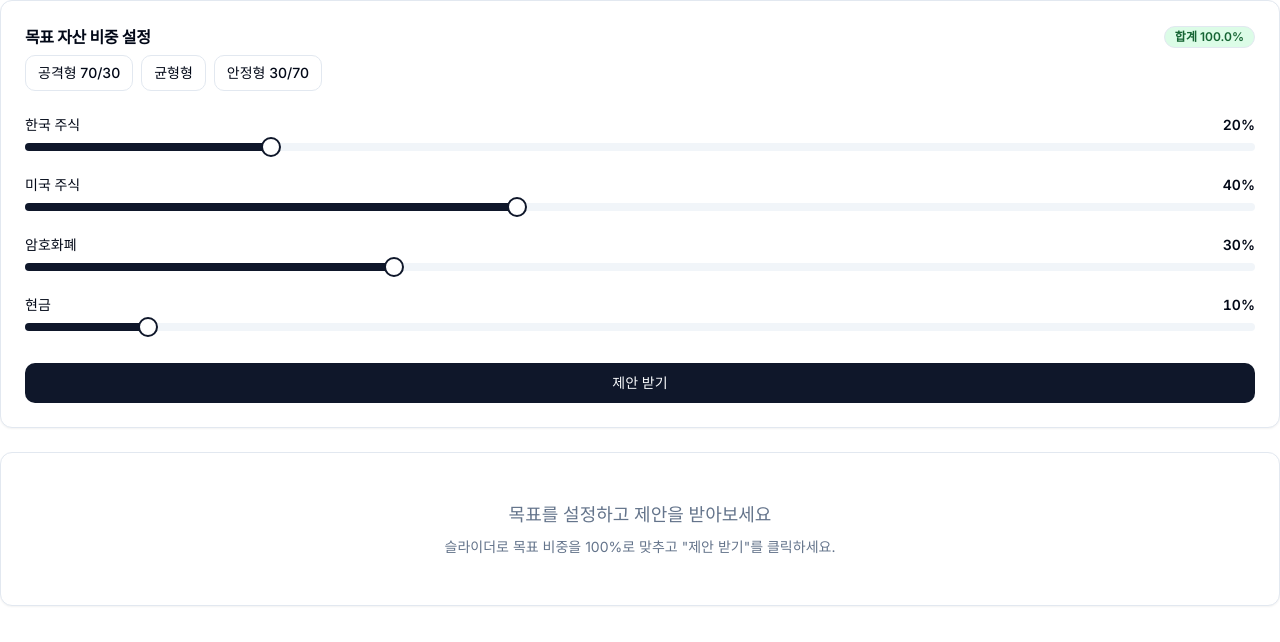
RebalancePanel › llm_analysis=null & status=degraded 응답 시 degraded 배너가 렌더됨
Click the button "제안 받기". click: [640, 383]
box: [25,363,1255,403]
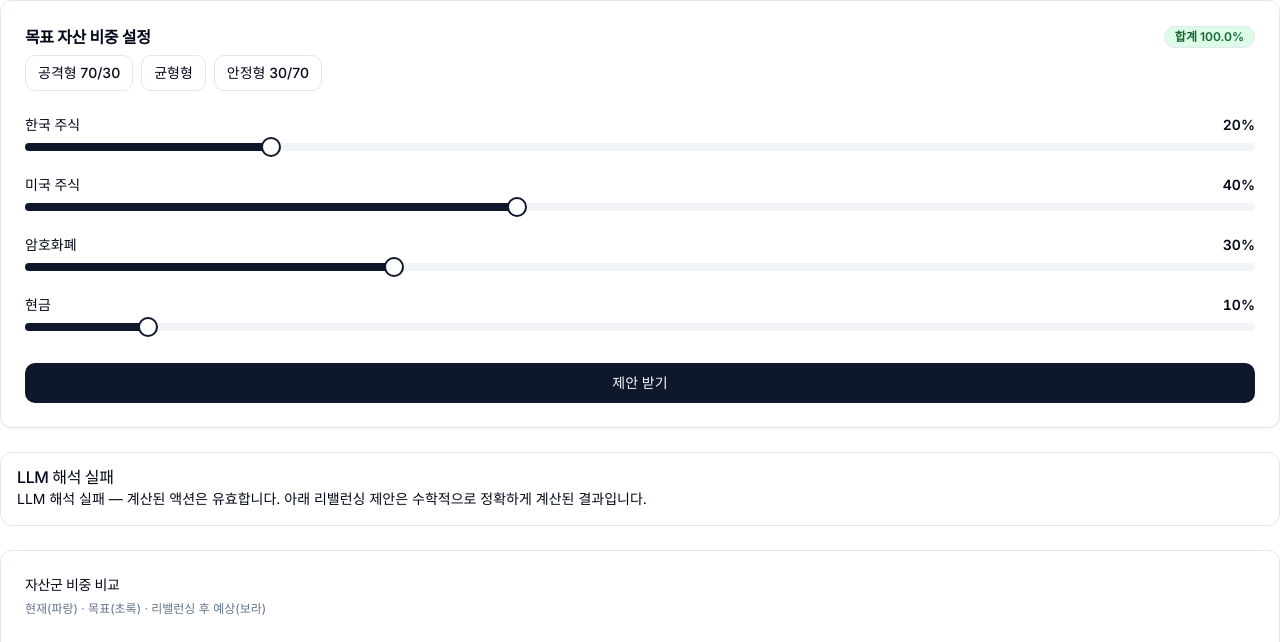
Check: the heading "LLM 해석 실패" is shown, box [17,467,114,487]
Check: the text "LLM 해석 실패 — 계산된 액션은 유효합니다. 아래 리밸런싱 제안은 수학적으로 정확하게 계산된 결과입니다." is shown, box [17,490,647,507]
